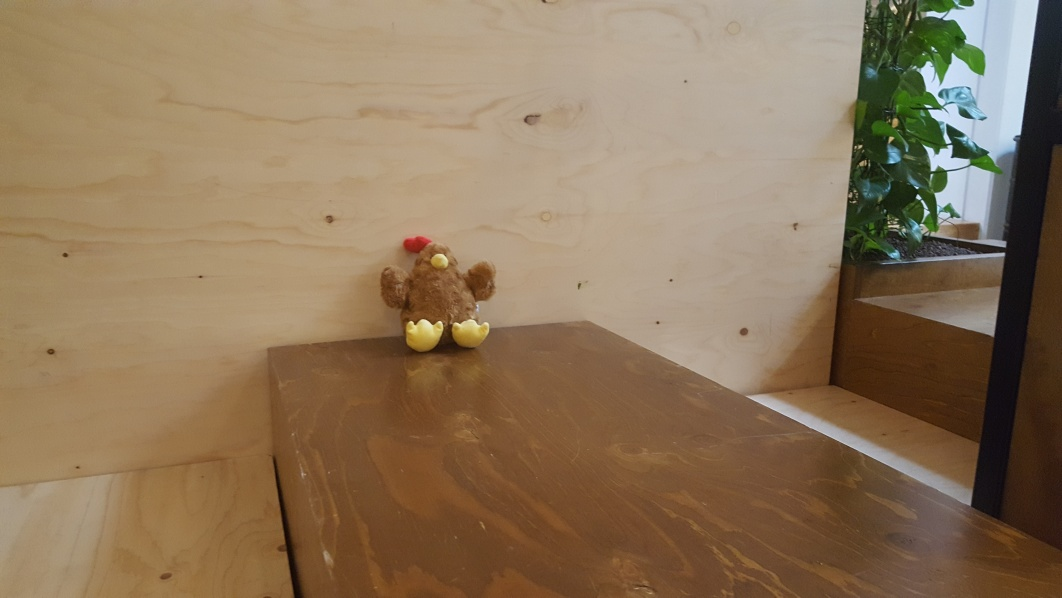chicken: (381, 237, 504, 352)
